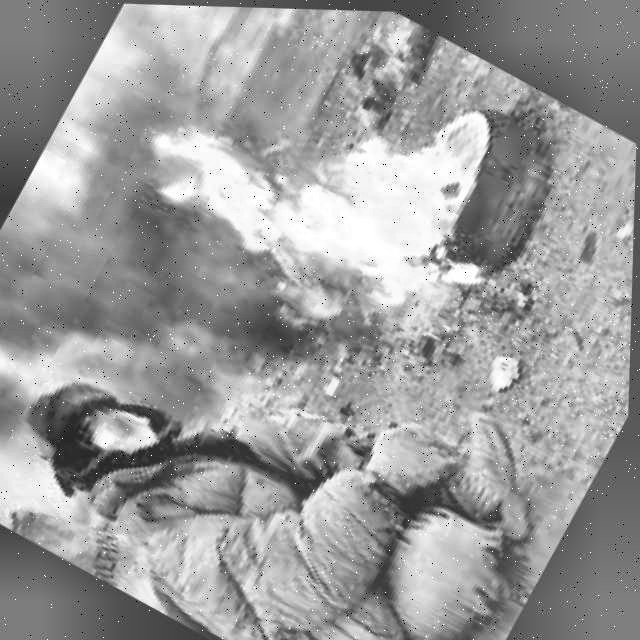Fire: (145, 9, 510, 333)
Smoke: (0, 128, 331, 453)
